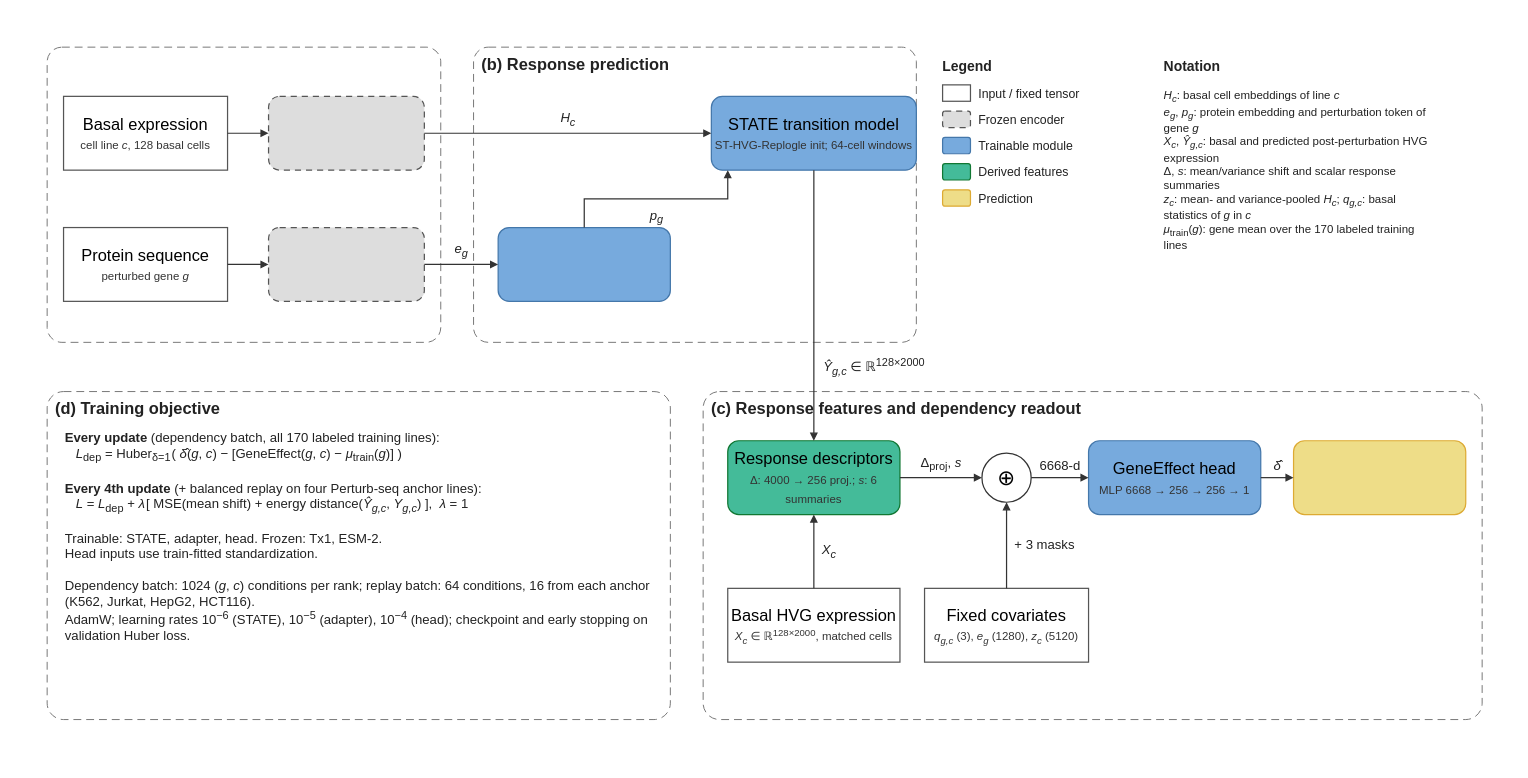
Image size: 1528x778. Some labels were removed from this diagram. The box of each missing label's shape, as (x1, y1, x2, y2) in pixels:
(a) Frozen encoders: (46, 46, 441, 342)
ESM-2 frozen; e g ∈ ℝ 1280: (268, 227, 425, 302)
GeneEffect( g , c ) μ train ( g ) + δ̂ ( g , c ): (1293, 440, 1466, 515)
Perturbation adapter MLP 1280 → 512 → 2024: (497, 227, 671, 302)
Tahoe Tx1-3B frozen; H c ∈ ℝ 128×2560: (268, 95, 425, 170)
